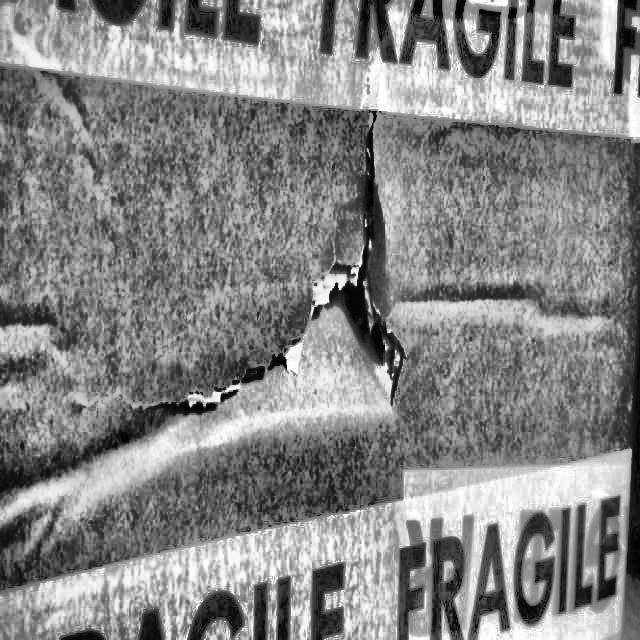box: (0, 0, 639, 639)
hole: (171, 141, 420, 420)
